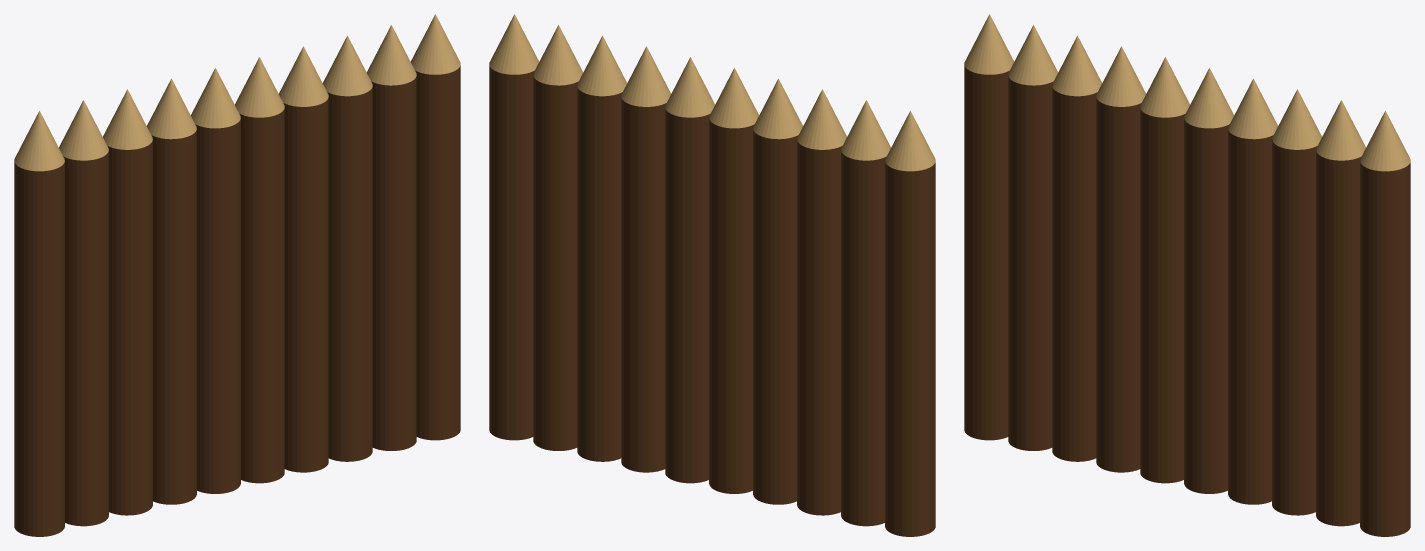
Rendered from lvl1_straight2.glb.
3 renders of one model, left to right at view 1: azimuth 30°, elevation 25°; view 2: azimuth 150°, elevation 25°; view 3: azimuth 330°, elevation 25°, orthographic.
Parts seen in each view (by area): view 1: Cylinder.018; view 2: Cylinder.018; view 3: Cylinder.018.
Boxes of the visible parts, left/top/right/bottom form: Cylinder.018: left=14, top=14, right=460, bottom=536; Cylinder.018: left=489, top=14, right=935, bottom=536; Cylinder.018: left=964, top=14, right=1410, bottom=536.
Size of the model in its own units: 1 by 0.9031 by 0.1.
